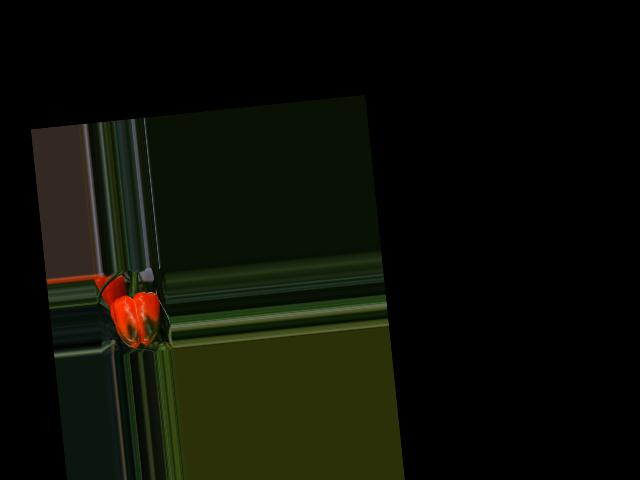bell_pepper: (105, 283, 171, 354)
